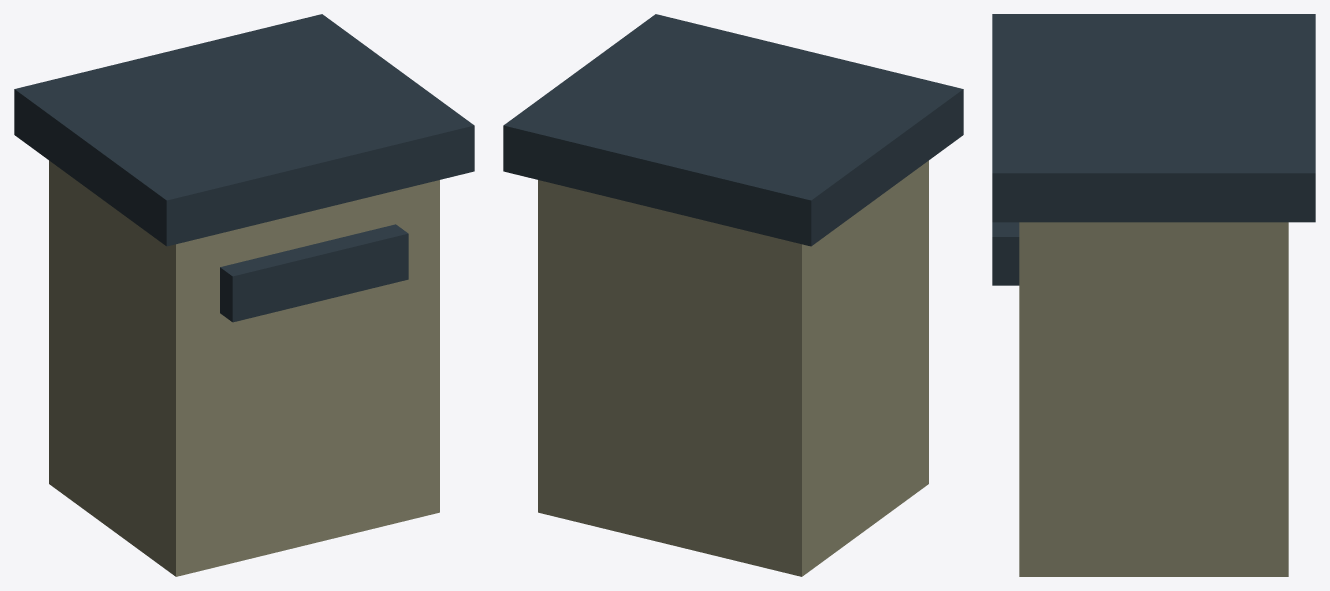
Rendered from civic-08.glb.
The picture shows the model from 3 angles, left to right: view 1: azimuth 30°, elevation 25°; view 2: azimuth 150°, elevation 25°; view 3: azimuth 270°, elevation 25°; orthographic projection. The views are drawn at different scales.
Parts seen in each view (by area): view 1: Recycling bin; view 2: Recycling bin; view 3: Recycling bin.
Part boxes in pixels (x1=…): Recycling bin: x1=14, y1=14, x2=474, y2=576; Recycling bin: x1=503, y1=14, x2=963, y2=576; Recycling bin: x1=992, y1=14, x2=1315, y2=576.
Size of the model in its own units: 1.12 by 1.36 by 0.96.
